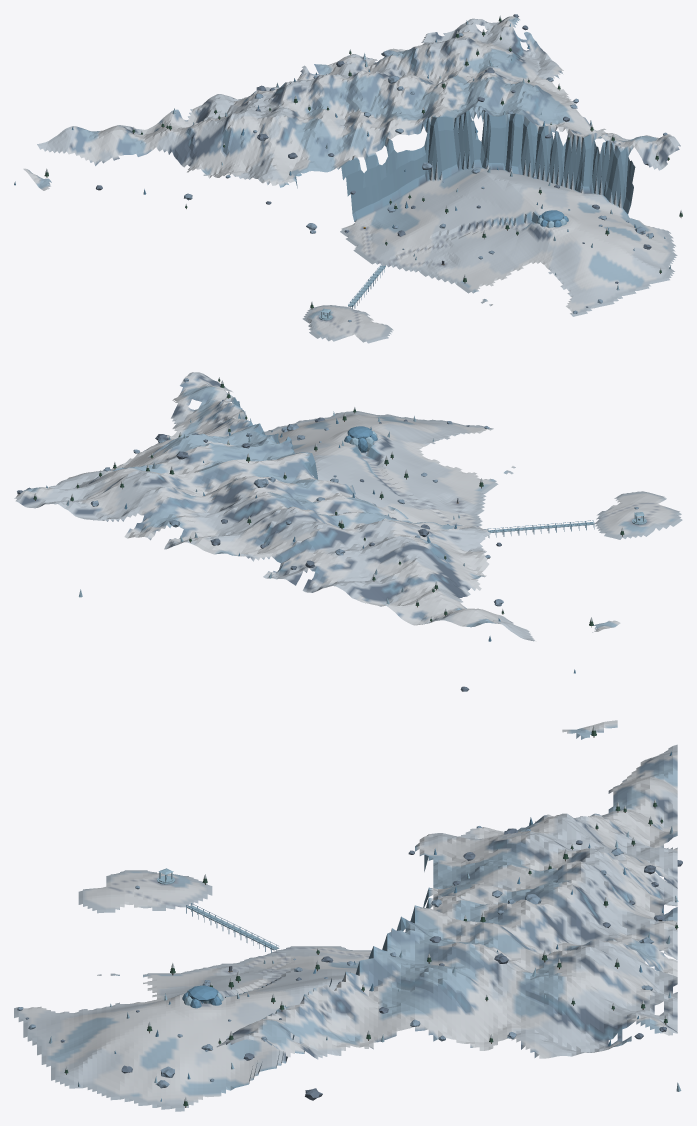
File: frost_isl_frostreach.glb
3 views of the same model, one above another, from view 1: azimuth 30°, elevation 25°; view 2: azimuth 150°, elevation 25°; view 3: azimuth 270°, elevation 25° (orthographic). The views are drawn at different scales.
Parts seen in each view (by area): view 1: geometry_0; view 2: geometry_0; view 3: geometry_0.
Boxes of the visible parts, x1=… form: geometry_0: x1=14, y1=14, x2=682, y2=343; geometry_0: x1=14, y1=372, x2=682, y2=691; geometry_0: x1=14, y1=720, x2=682, y2=1111.
Bounding box in the file's own units: 344 × 63.68 × 290.
